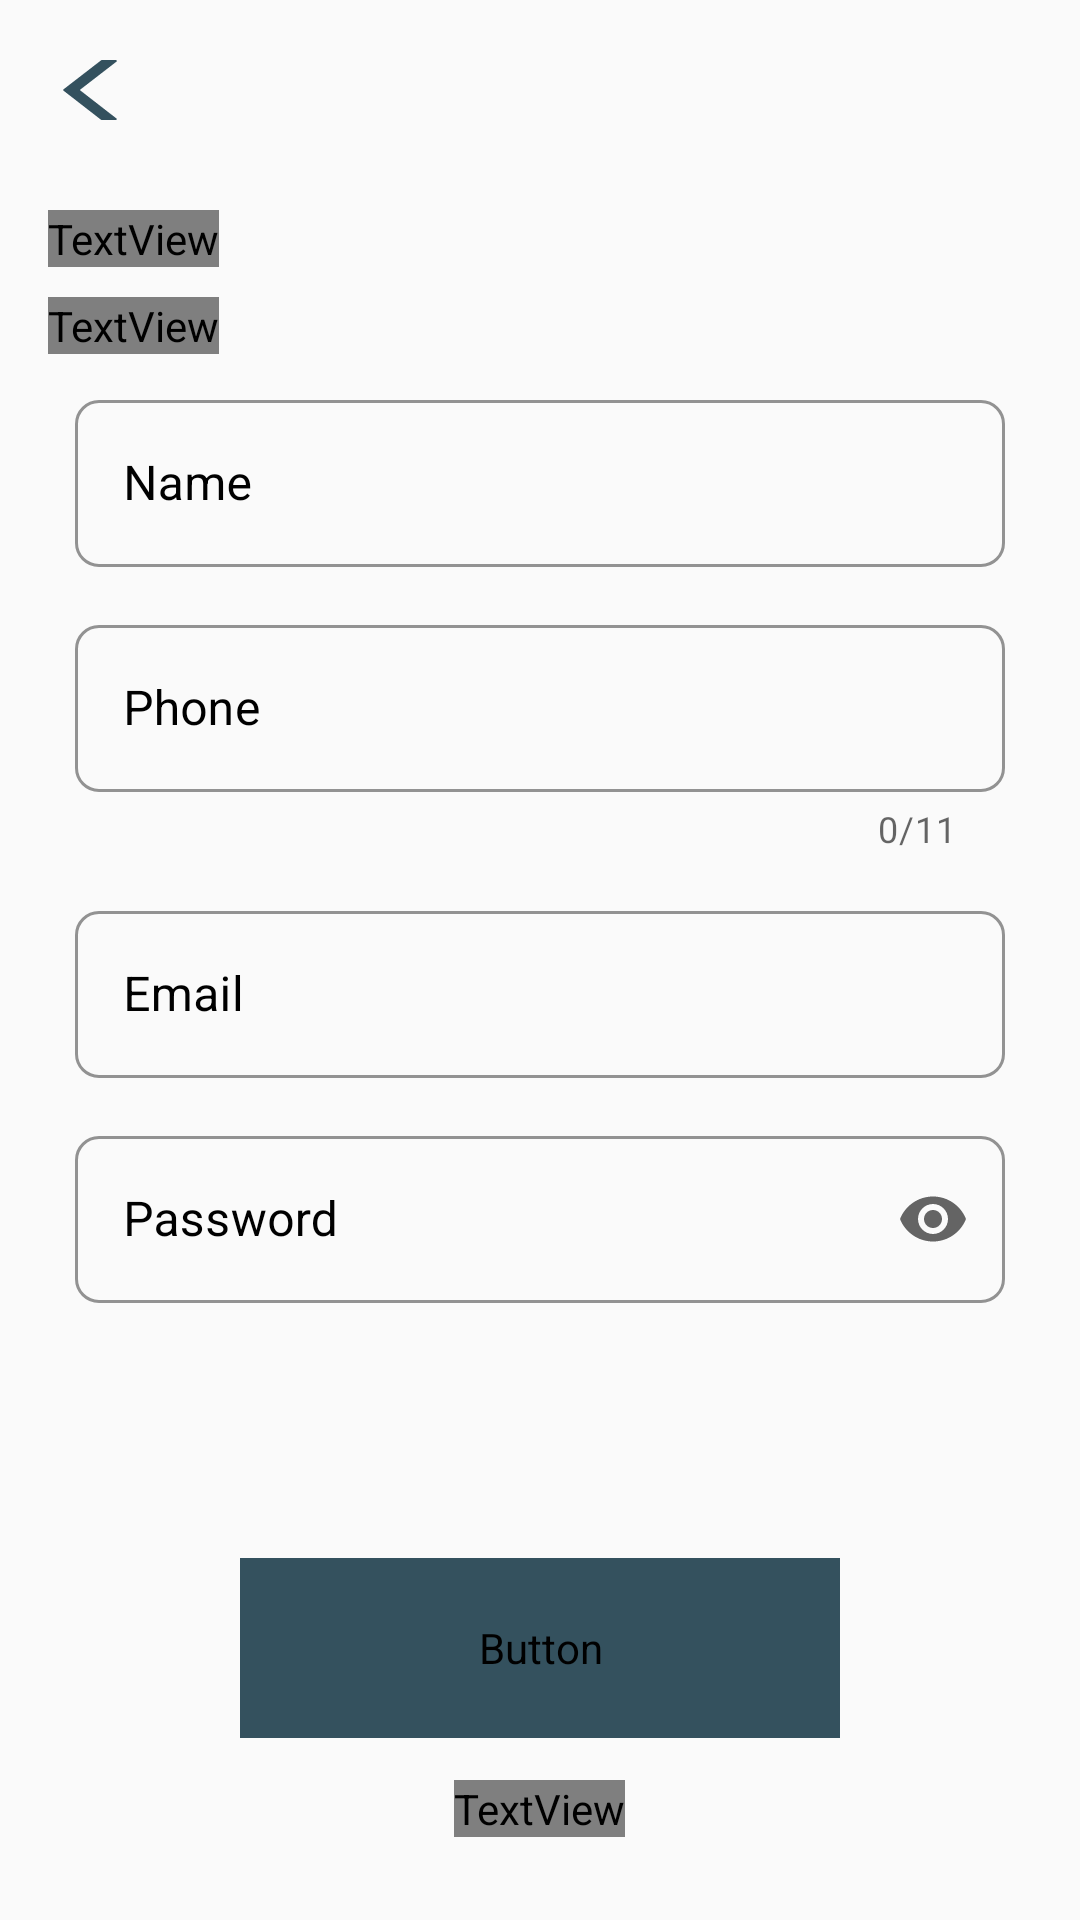

Point at icon controls on the screen. Image size 1080x1920, points as (x=x, y=y).
back arrow: (x=90, y=90)
